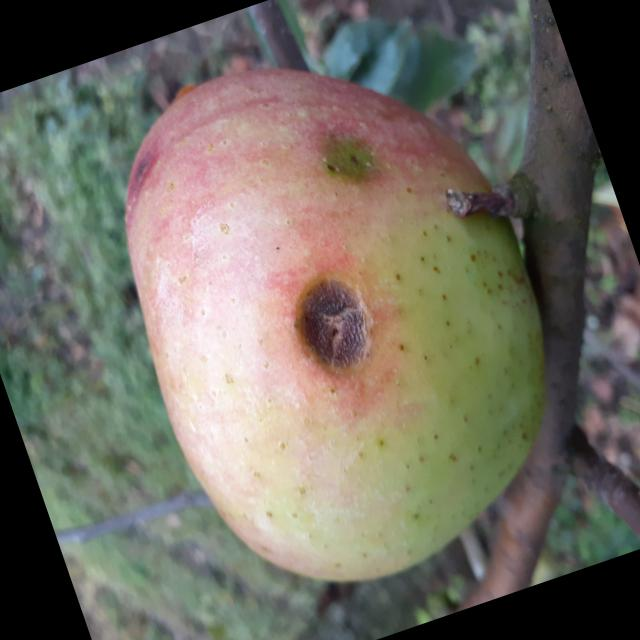rotten: (63, 1, 614, 637)
